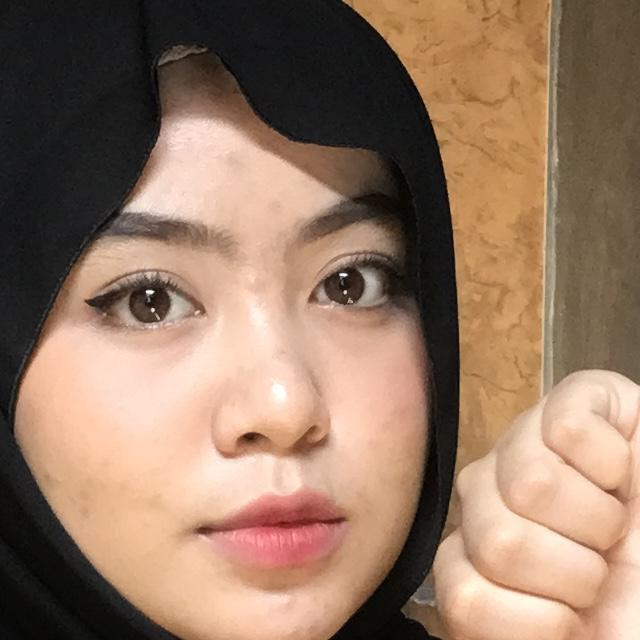sedih: (250, 266, 640, 640)
